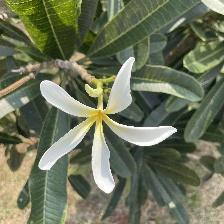champaka: (40, 57, 181, 194)
